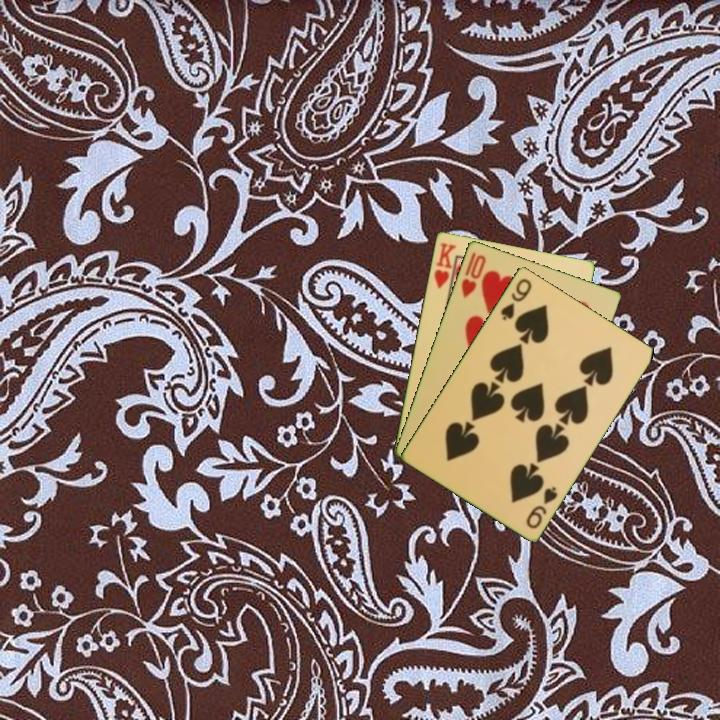10h: (457, 248, 489, 301)
9s: (522, 482, 560, 531), (497, 274, 534, 323)
Kh: (430, 239, 459, 296)
